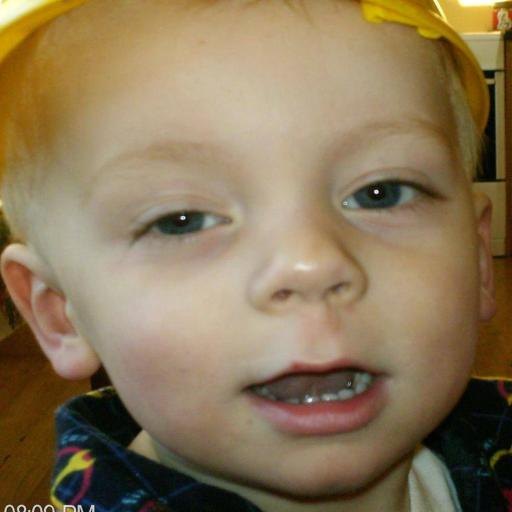Autism: (20, 12, 512, 502)
